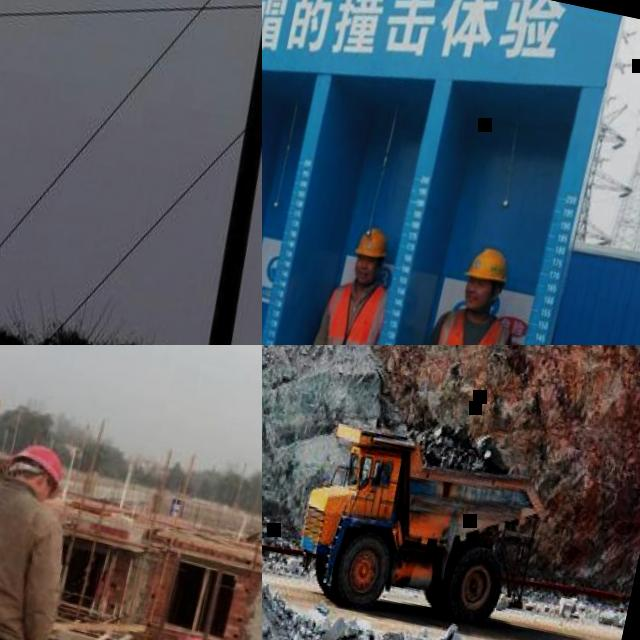Hardhat: (5, 438, 70, 489), (465, 246, 513, 286), (354, 227, 392, 261), (168, 631, 219, 640)
NO-Mask: (464, 286, 494, 312), (352, 263, 378, 287), (33, 476, 54, 502)
NO-Safety Vest: (0, 474, 50, 635)
Person: (0, 425, 87, 640), (364, 237, 537, 345), (265, 221, 403, 345)
Safety Vest: (308, 277, 390, 345), (416, 305, 514, 345)
vehicle: (283, 400, 562, 640)
